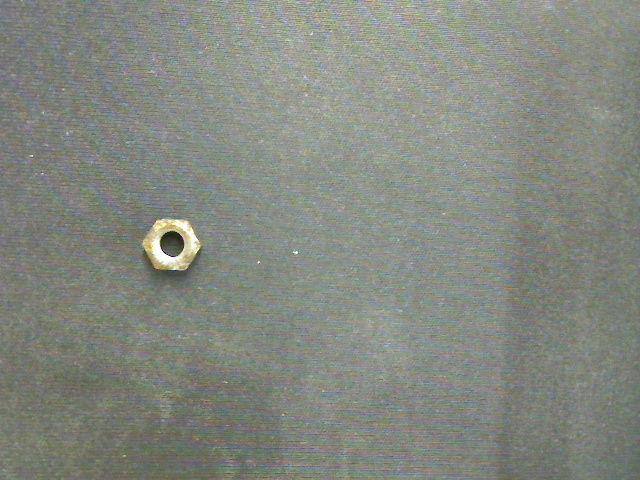Nut: (142, 218, 202, 271)
